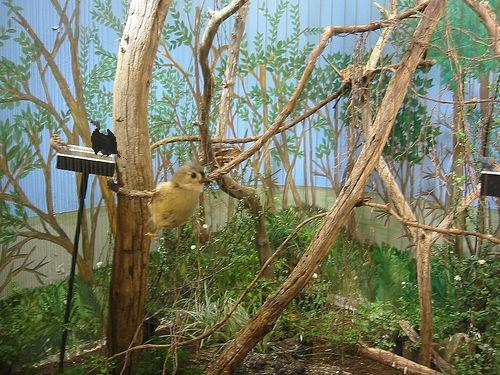tampered: (91, 122, 145, 160)
